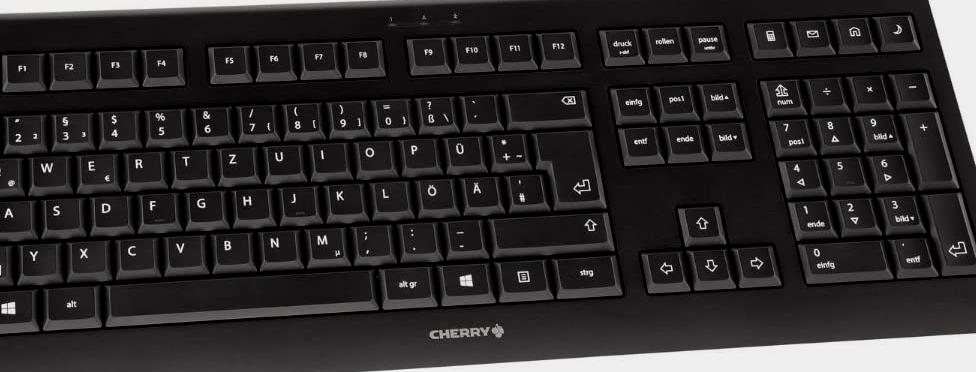0: (372, 96, 410, 132)
1: (1, 115, 21, 151)
2: (5, 112, 43, 150)
3: (51, 109, 91, 148)
4: (99, 108, 138, 144)
5: (145, 106, 183, 142)
6: (191, 104, 231, 140)
7: (238, 102, 276, 138)
8: (282, 100, 322, 137)
9: (327, 97, 365, 135)
a: (1, 198, 32, 235)
accent: (460, 92, 497, 126)
ae: (462, 174, 498, 208)
alt-left: (43, 283, 97, 324)
altgr-right: (379, 263, 434, 305)
b: (210, 229, 250, 265)
c: (115, 234, 155, 271)
caret: (1, 115, 21, 151)
comma: (351, 222, 391, 261)
d: (91, 193, 128, 229)
del: (504, 88, 588, 124)
e: (76, 150, 114, 187)
enter: (533, 126, 604, 206)
f: (139, 191, 174, 224)
g: (186, 188, 222, 222)
h: (232, 186, 270, 221)
hash: (505, 170, 544, 207)
i: (310, 140, 345, 173)
j: (279, 183, 315, 218)
k: (325, 181, 363, 215)
keyboard: (1, 1, 976, 372)
l: (371, 179, 407, 213)
less: (1, 242, 22, 284)
m: (305, 224, 344, 262)
minus: (443, 217, 482, 252)
n: (259, 227, 297, 263)
o: (353, 137, 392, 173)
oe: (416, 176, 453, 211)
p: (398, 135, 435, 169)
plus: (487, 130, 526, 167)
point: (398, 220, 436, 256)
q: (1, 155, 22, 193)
r: (124, 149, 161, 183)
s: (41, 195, 80, 231)
shift-left: (1, 246, 29, 284)
shift-lock: (1, 201, 42, 240)
shift-right: (489, 211, 609, 250)
space: (105, 269, 377, 326)
ss: (416, 94, 454, 130)
strg-left: (1, 290, 38, 337)
strg-right: (793, 237, 891, 283), (551, 253, 622, 296)
t: (171, 146, 206, 180)
tab: (1, 157, 34, 195)
u: (262, 142, 301, 177)
ue: (443, 133, 481, 167)
v: (164, 232, 202, 268)
w: (28, 153, 68, 188)
x: (68, 238, 107, 274)
y: (18, 241, 57, 277)
z: (218, 144, 253, 179)
